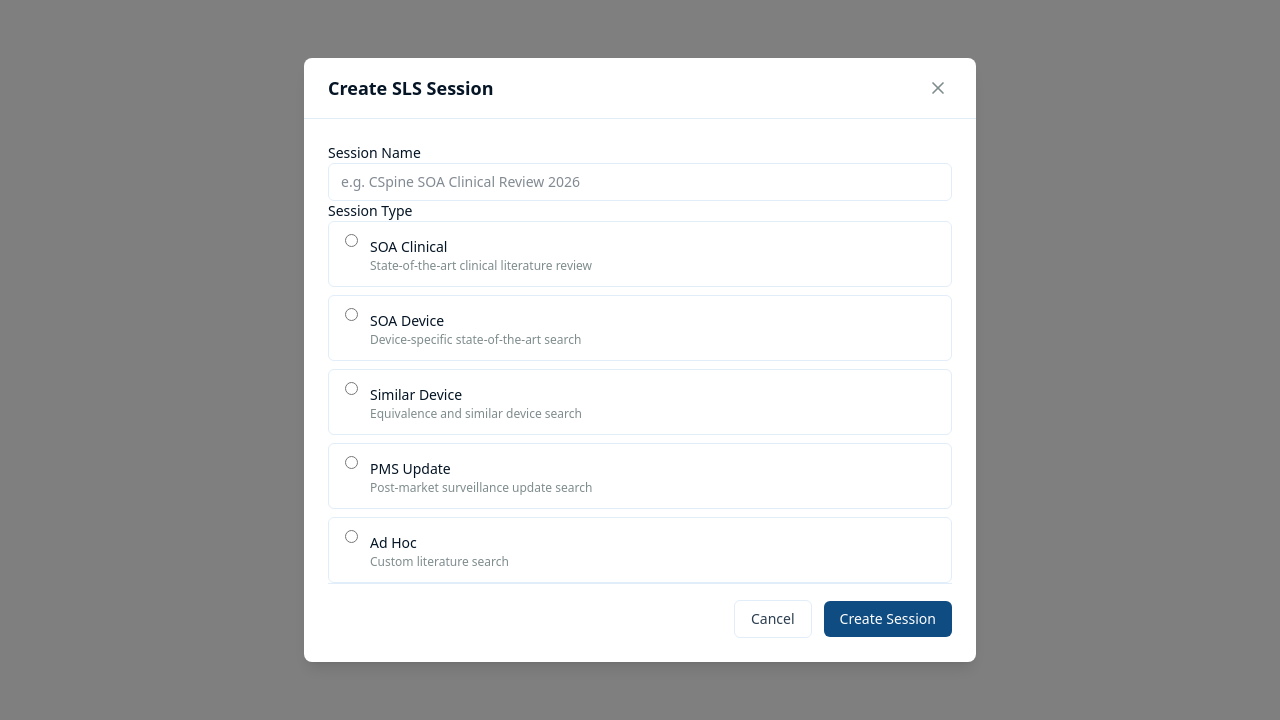
Test: SessionCreateForm › shows validation error for short name
In the field labelled "Session Name": (640, 182) [328,163,952,201], type "AB"
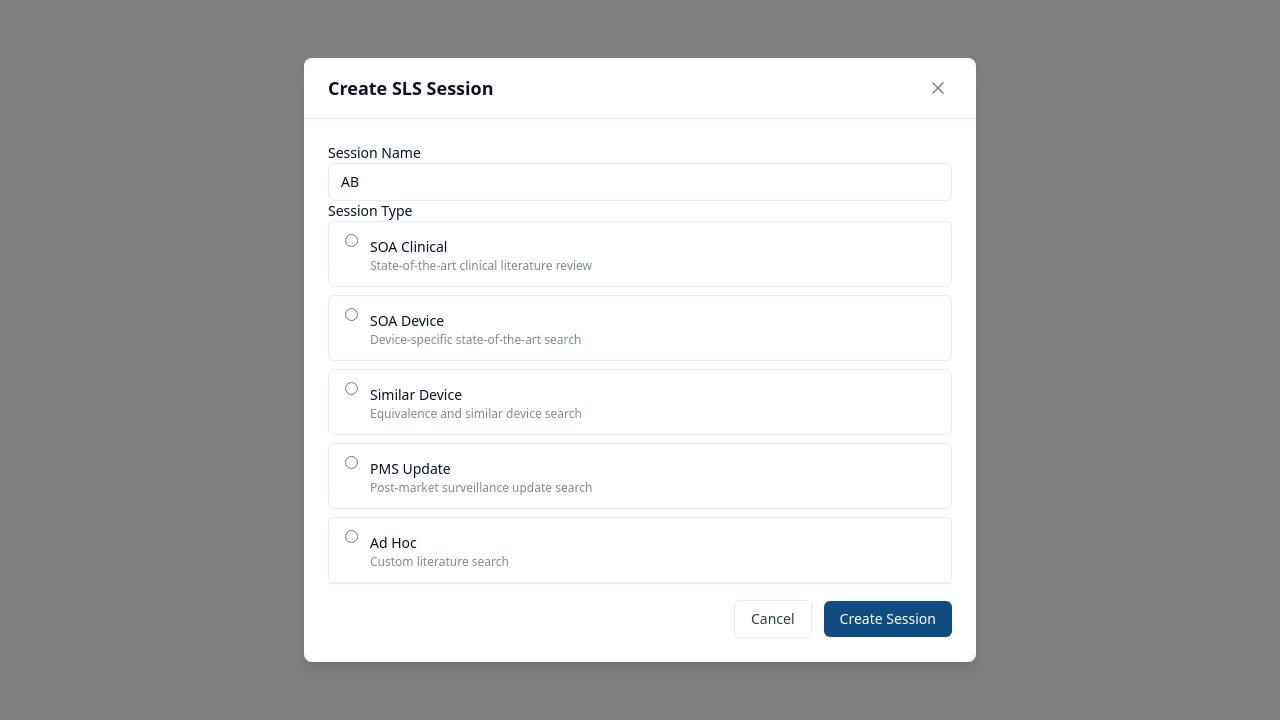
Click the button with test id "create-button": (888, 619) [824,601,952,637]
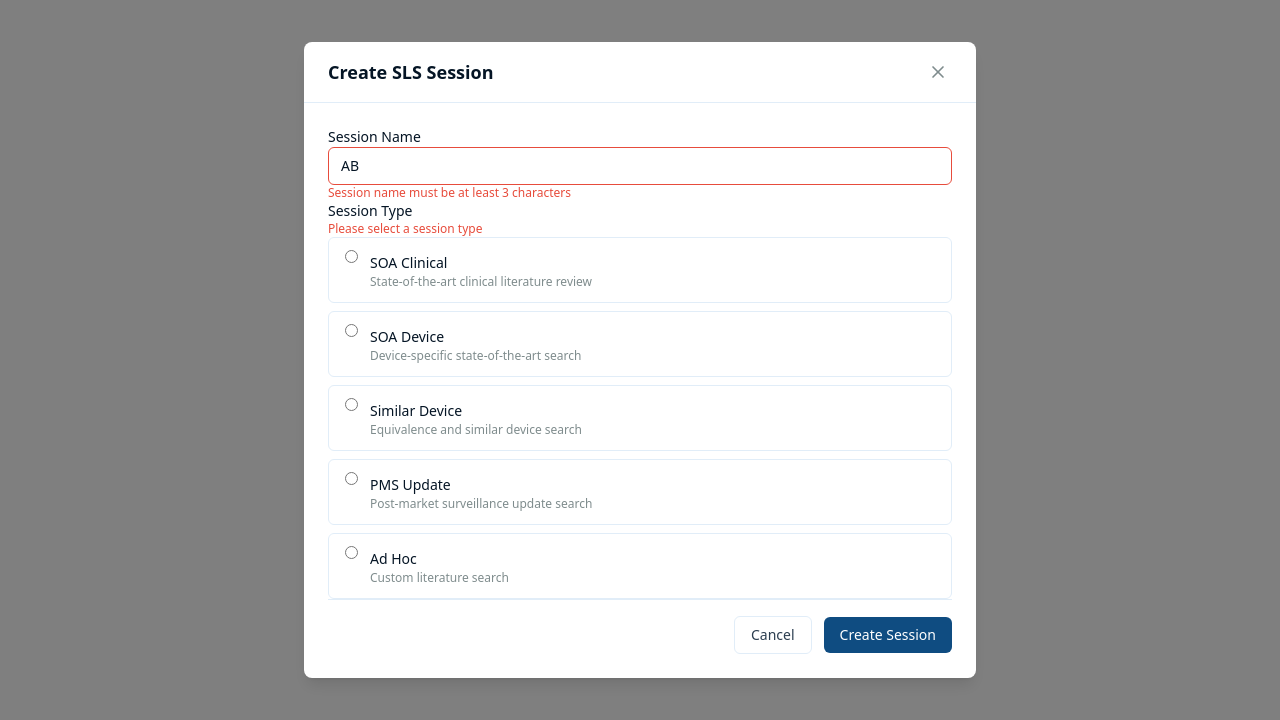
Check: the text "Session name must be at least 3 characters" is shown, box [328,184,571,201]
